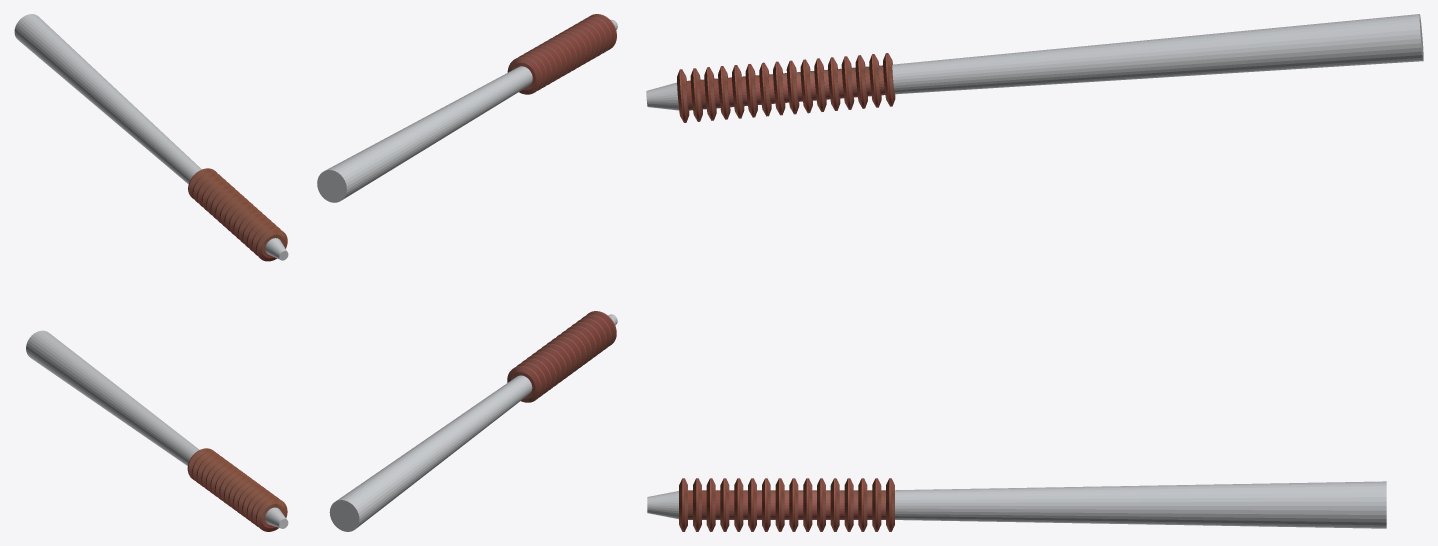
The model's file is catenary_end_05.obj.
3 views of the same model, side by side, from view 1: azimuth 30°, elevation 25°; view 2: azimuth 150°, elevation 25°; view 3: azimuth 270°, elevation 25° (orthographic). The views are drawn at different scales.
Visible parts, largest first — view 1: insulators.001, insulators.002; view 2: insulators.002, insulators.001; view 3: insulators.001, insulators.002.
Boxes of the visible parts, x1=… form: insulators.001: x1=14, y1=14, x2=288, y2=261; insulators.002: x1=26, y1=330, x2=288, y2=531; insulators.002: x1=329, y1=311, x2=617, y2=531; insulators.001: x1=317, y1=14, x2=617, y2=202; insulators.001: x1=646, y1=14, x2=1423, y2=122; insulators.002: x1=647, y1=478, x2=1386, y2=531.
Bounding box in the file's own units: 0.1451 × 1.53 × 2.1.
8 materials, 8 textured.
